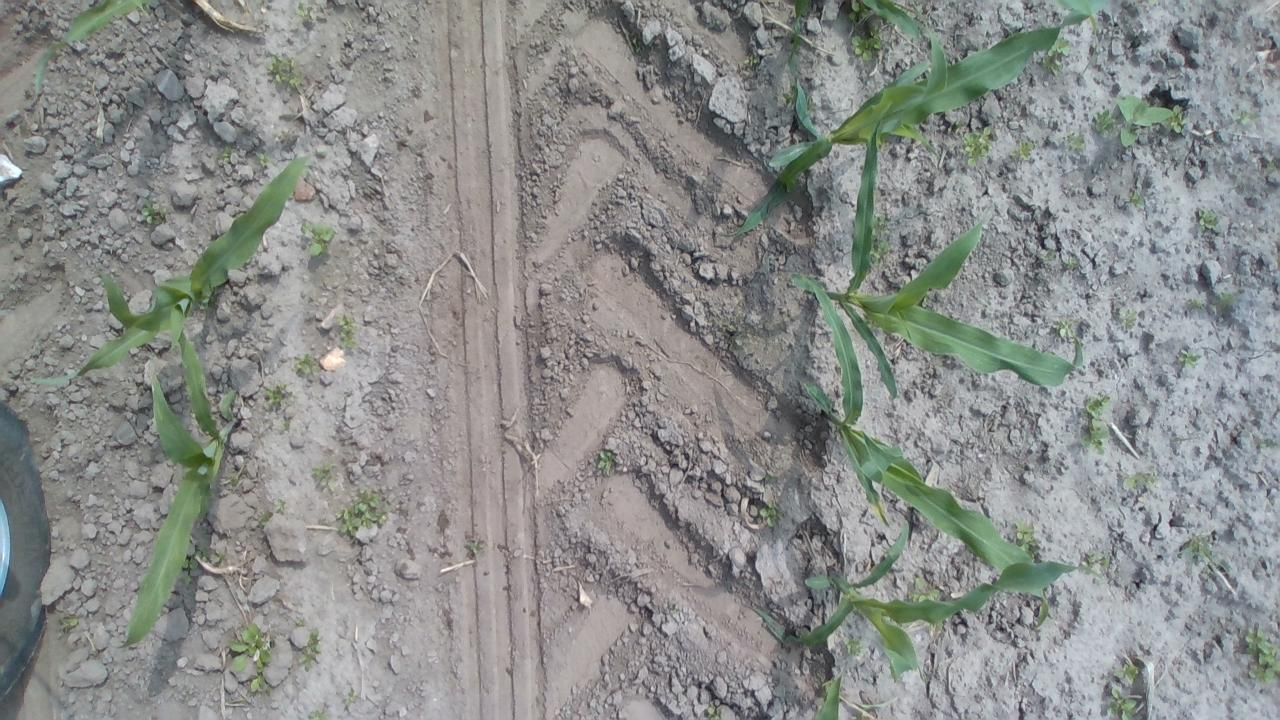Maize: (718, 0, 1106, 239), (789, 270, 1050, 625), (792, 117, 1088, 402), (23, 154, 311, 386), (752, 518, 1106, 682), (112, 332, 242, 656), (32, 1, 154, 94), (789, 0, 821, 80), (860, 0, 921, 41), (814, 671, 840, 720), (1060, 0, 1096, 32)
Weeds: (1114, 94, 1174, 147), (230, 622, 271, 697), (336, 488, 388, 536), (1170, 536, 1230, 576), (1242, 626, 1280, 684), (1078, 394, 1114, 455), (264, 50, 304, 87), (300, 218, 336, 258), (962, 125, 992, 171), (852, 25, 883, 61), (1116, 468, 1166, 490), (299, 628, 324, 672), (1106, 687, 1138, 720), (620, 19, 646, 57), (337, 312, 360, 349), (906, 577, 940, 600), (290, 352, 319, 376), (1014, 518, 1035, 551), (1092, 107, 1114, 137), (760, 498, 781, 529), (1116, 306, 1139, 334), (1112, 662, 1140, 685), (142, 197, 167, 222), (268, 379, 289, 408), (1197, 206, 1221, 231), (1178, 348, 1204, 371), (311, 459, 334, 485), (1170, 103, 1188, 136), (197, 543, 224, 564), (597, 450, 617, 478), (1212, 290, 1235, 314), (1008, 140, 1032, 162), (1083, 550, 1108, 571), (842, 634, 863, 659), (1232, 108, 1261, 126), (872, 240, 892, 266), (59, 610, 79, 636), (1041, 56, 1065, 77), (873, 212, 892, 238), (1047, 38, 1070, 59), (341, 684, 358, 712), (182, 557, 198, 585), (1253, 435, 1279, 452), (1053, 318, 1075, 338), (782, 84, 798, 110), (1067, 130, 1084, 152), (294, 2, 314, 20), (848, 1, 868, 19), (1130, 189, 1145, 209), (220, 145, 232, 169), (468, 535, 483, 554), (256, 148, 270, 168), (1062, 255, 1078, 270), (1040, 247, 1054, 264), (707, 705, 722, 720), (764, 472, 778, 487), (260, 510, 274, 525), (807, 91, 816, 114), (274, 496, 286, 513), (954, 119, 969, 132), (744, 54, 760, 66), (309, 710, 326, 720), (1188, 298, 1204, 308), (230, 474, 241, 488), (668, 599, 678, 614), (294, 616, 307, 626), (1266, 160, 1276, 172), (282, 420, 290, 432)
